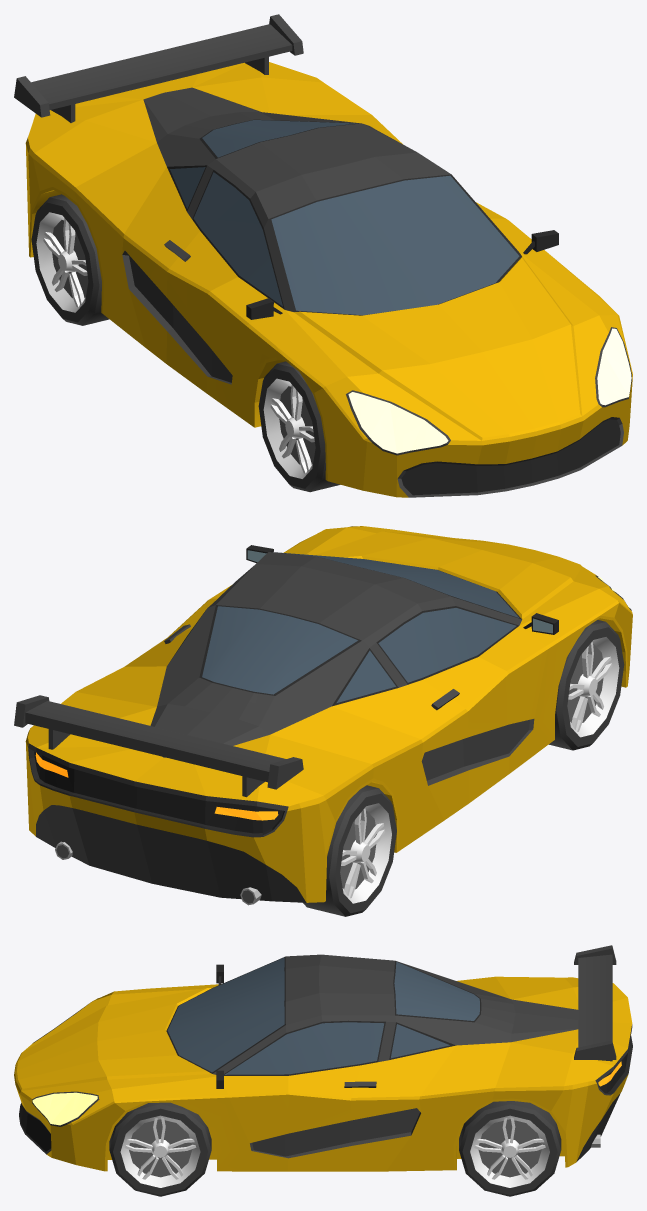
File: Sport_Car_39.glb
3 views of the same model, one above another, from view 1: azimuth 30°, elevation 25°; view 2: azimuth 150°, elevation 25°; view 3: azimuth 270°, elevation 25° (orthographic). The views are drawn at different scales.
Parts seen in each view (by area): view 1: Sport Car_39, Sport Car_39 BR Tire, Sport Car_39 FR Tire; view 2: Sport Car_39, Sport Car_39 BR Tire, Sport Car_39 FR Tire; view 3: Sport Car_39, Sport Car_39 BL Tire, Sport Car_39 FL Tire.
Part boxes in pixels (bbox=[...]): Sport Car_39: bbox=[14, 14, 632, 497]; Sport Car_39 BR Tire: bbox=[31, 194, 109, 325]; Sport Car_39 FR Tire: bbox=[258, 361, 340, 492]; Sport Car_39: bbox=[14, 526, 632, 905]; Sport Car_39 BR Tire: bbox=[303, 785, 396, 916]; Sport Car_39 FR Tire: bbox=[549, 620, 624, 750]; Sport Car_39: bbox=[14, 945, 632, 1171]; Sport Car_39 BL Tire: bbox=[459, 1101, 561, 1196]; Sport Car_39 FL Tire: bbox=[109, 1102, 211, 1196].
Size of the model in its own units: 2.09 by 1.37 by 4.74.
2 materials, 2 textured.
